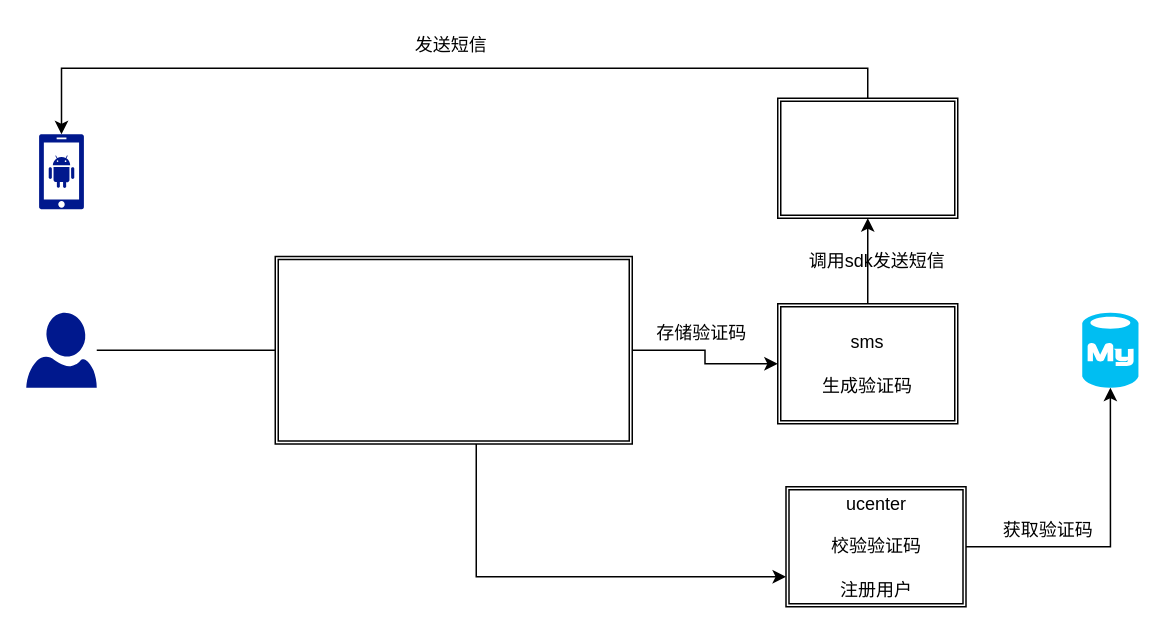
Some shapes in this 1164 by 633 pixel diagram are drawn without their labels. The shapes that lost their labels are listed below. From the top down, each one's centre as x and y in pixels, then its label:
pixel 867 157: 阿里云短信服务 将验证码作为短信发送给用户
pixel 453 349: 发送验证码 输入验证码 注册
